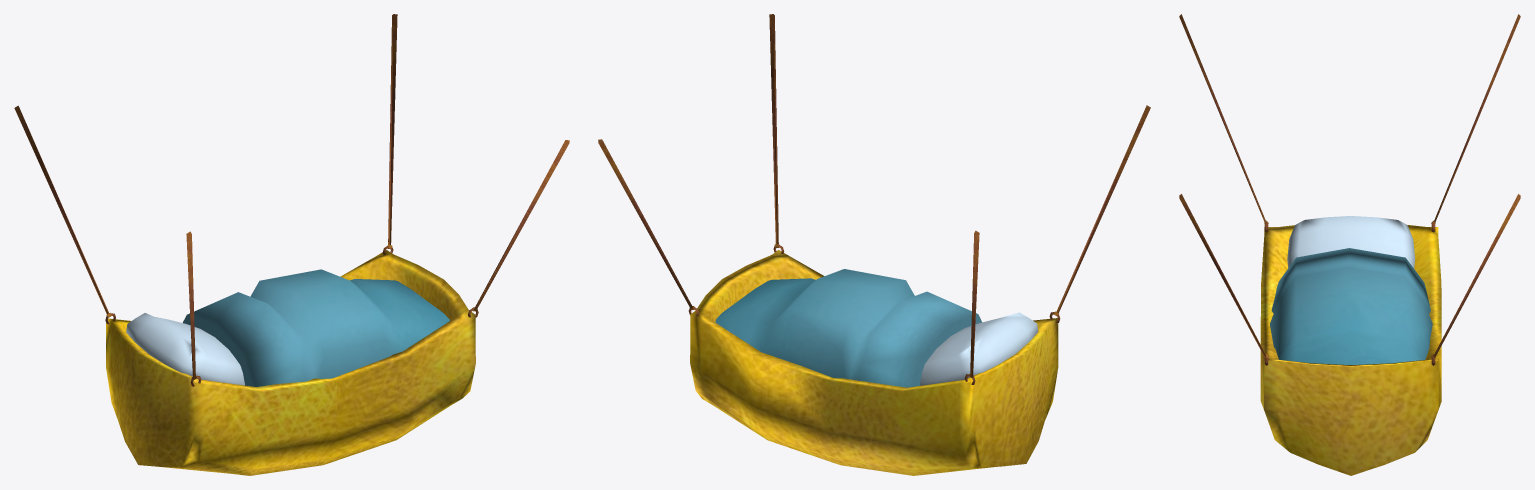
File: Bed.fbx
3 renders of one model, left to right at view 1: azimuth 30°, elevation 25°; view 2: azimuth 150°, elevation 25°; view 3: azimuth 270°, elevation 25°, orthographic. The views are drawn at different scales.
Visible parts, largest first — view 1: Bed; view 2: Bed; view 3: Bed.
Part boxes in pixels (left/top/right/bottom): Bed: left=14, top=14, right=569, bottom=475; Bed: left=598, top=14, right=1150, bottom=475; Bed: left=1179, top=14, right=1520, bottom=475.
Size of the model in its own units: 2.63 by 2.21 by 2.08.
